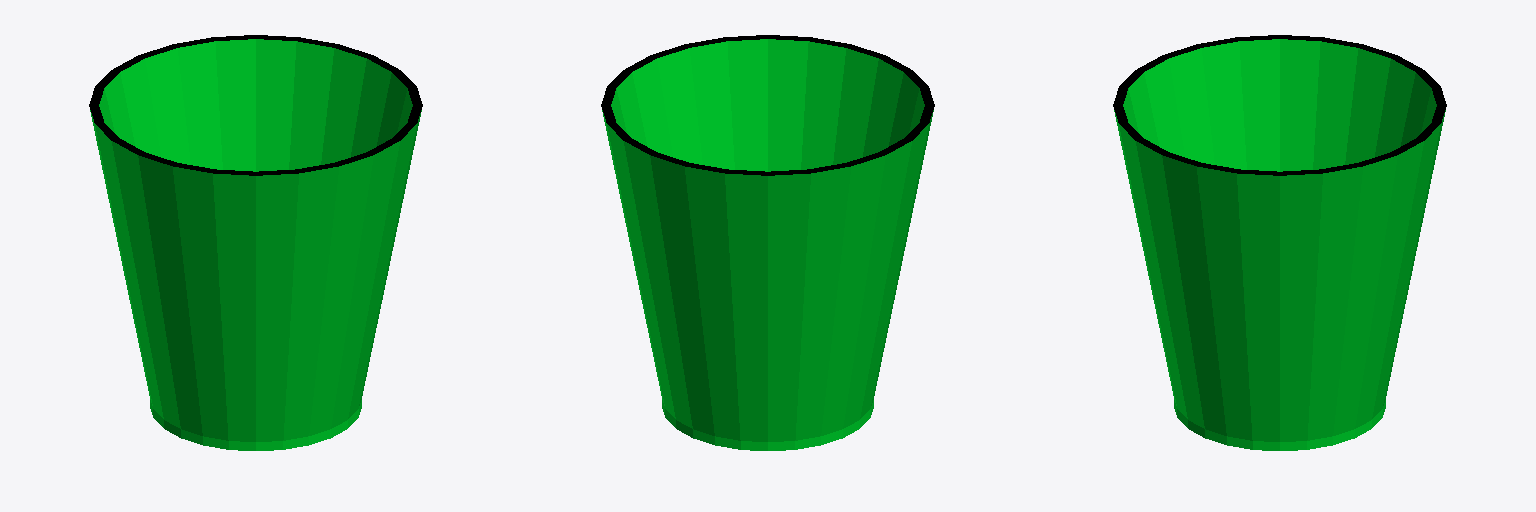
Rendered from trashPlastico.obj.
3 renders of one model, left to right at view 1: azimuth 30°, elevation 25°; view 2: azimuth 150°, elevation 25°; view 3: azimuth 270°, elevation 25°, orthographic.
Visible parts, largest first — view 1: Mesh1 Model; view 2: Mesh1 Model; view 3: Mesh1 Model.
Boxes of the visible parts, x1,y1,x2,y2 form: Mesh1 Model: [89, 35, 422, 450]; Mesh1 Model: [601, 35, 934, 450]; Mesh1 Model: [1113, 35, 1446, 450].
Size of the model in its own units: 1 by 0.996 by 1.